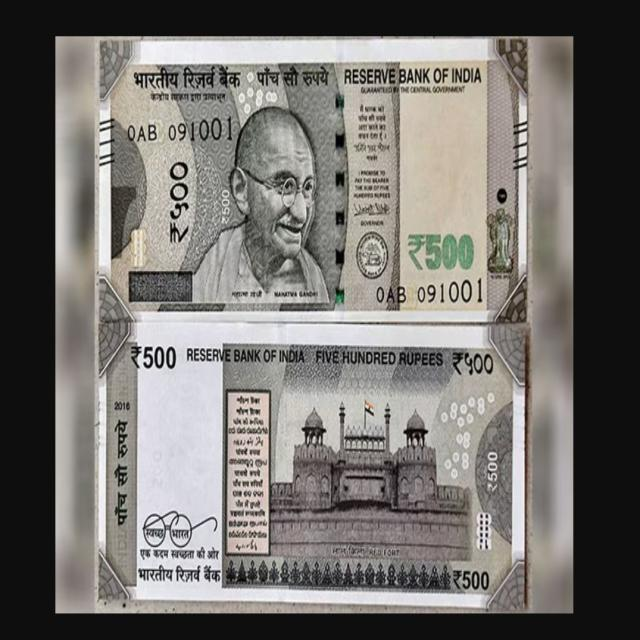500IndianRupees: (96, 320, 528, 610)
